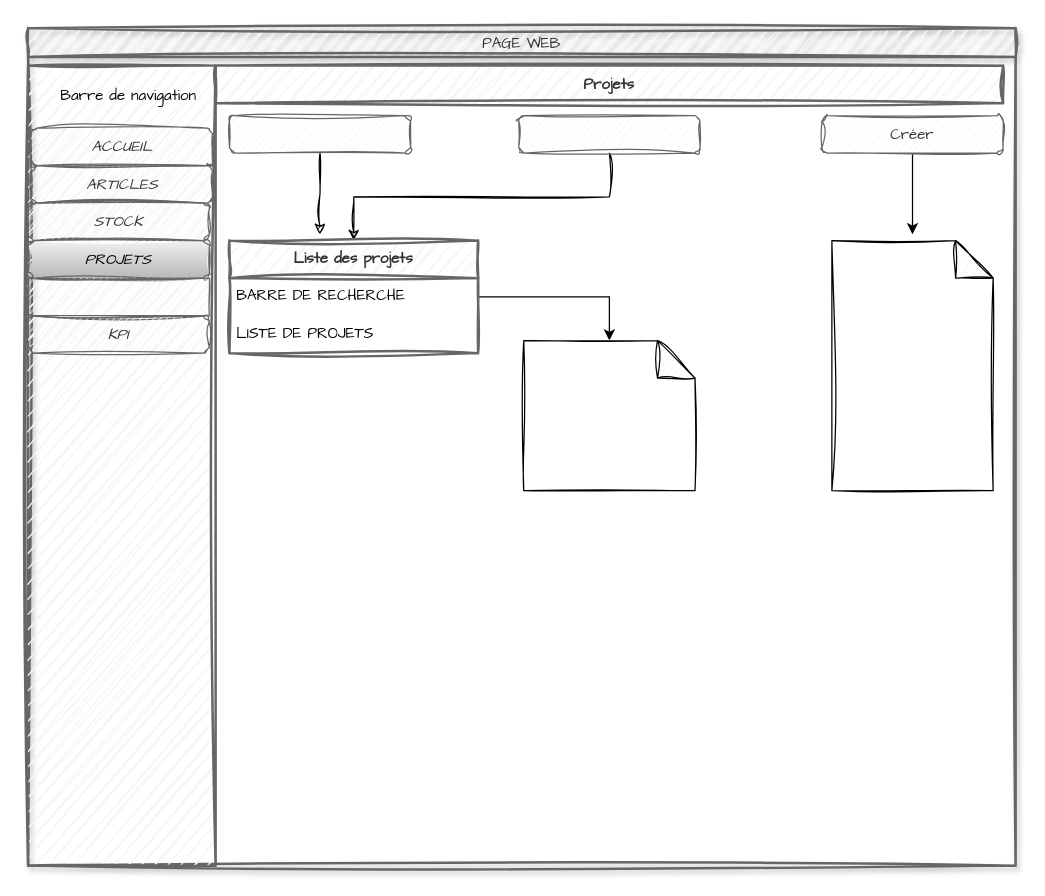
Image size: 1045x896. Some labels were removed from this diagram. Each missing label, with the centre of its shape:
Consulter: the point at 319,133
DMC: the point at 118,296
Formulaire de création de projet: the point at 912,365
Formulaire de modification de projet: the point at 608,415
Modifier un projet: the point at 609,133
